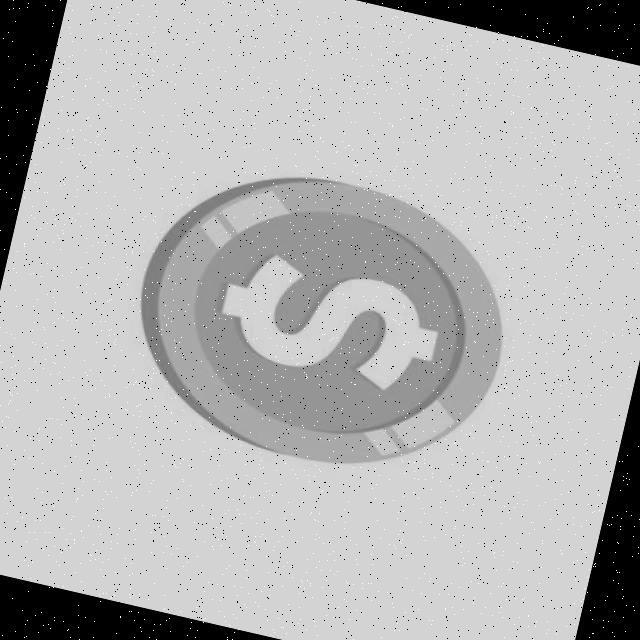Circle: (136, 166, 507, 470)
